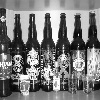beer: (39, 14, 56, 91)
